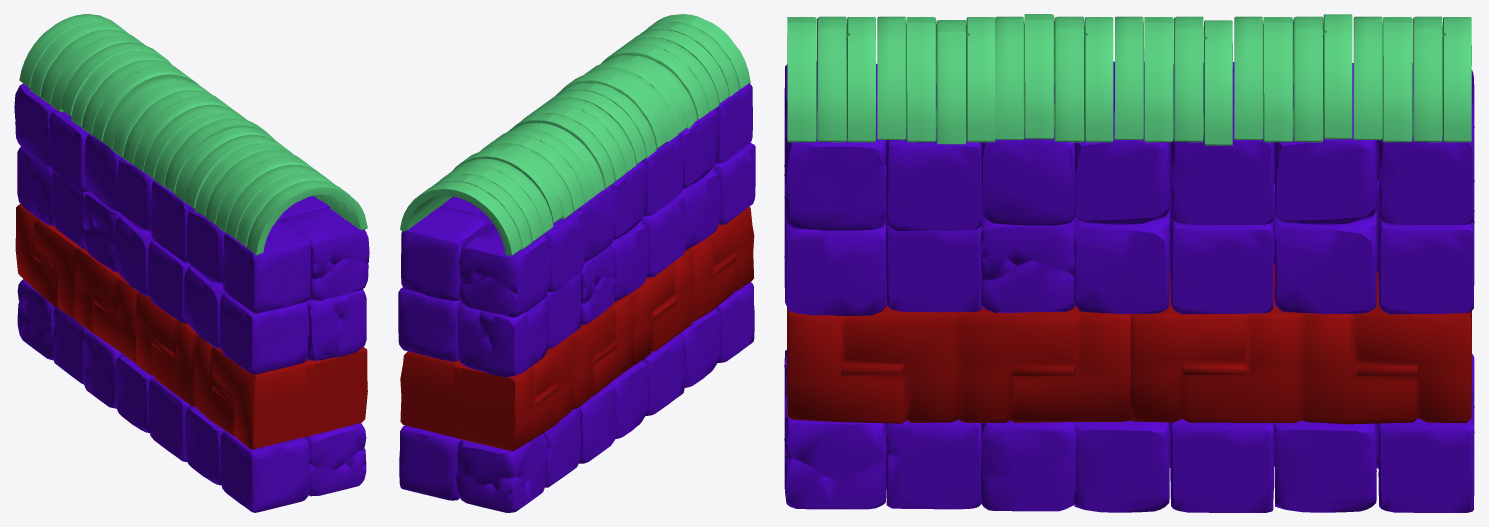
File: wall04.fbx
3 views of the same model, side by side, from view 1: azimuth 30°, elevation 25°; view 2: azimuth 150°, elevation 25°; view 3: azimuth 270°, elevation 25° (orthographic). The views are drawn at different scales.
Visible parts, largest first — view 1: wall04; view 2: wall04; view 3: wall04.
Part boxes in pixels (x1,y1,x2,y2): wall04: (14,14,369,512); wall04: (398,14,755,512); wall04: (784,14,1474,512).
Size of the model in its own units: 2.55 by 6.39 by 8.85.
